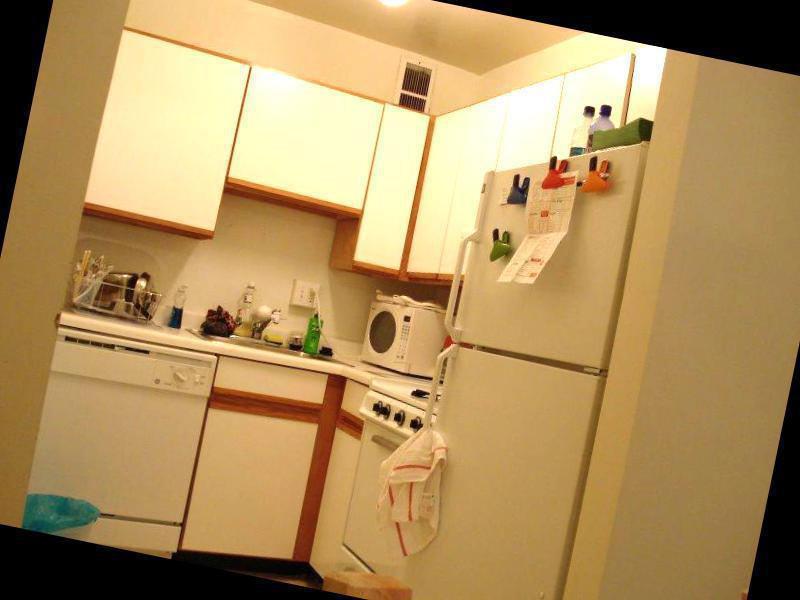Bote de Basura: (28, 486, 103, 541)
Electrodomestico: (398, 174, 641, 600), (24, 321, 217, 553), (333, 384, 436, 590)
